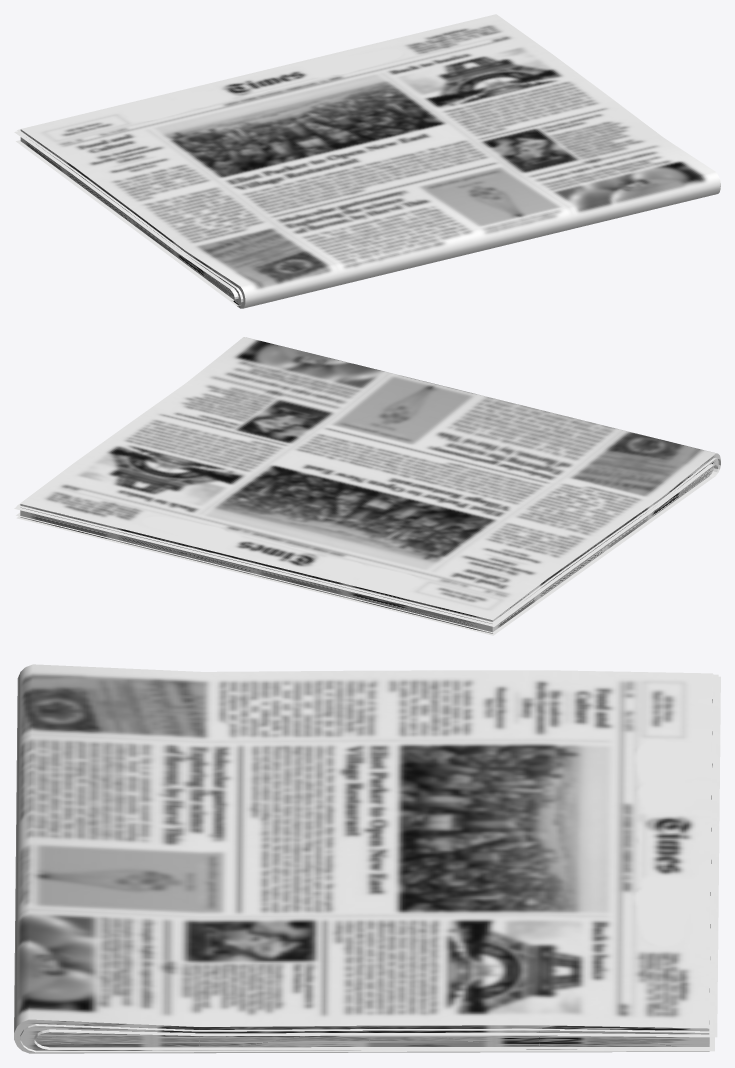
The model's file is Newspaper.FBX.
3 views of the same model, one above another, from view 1: azimuth 30°, elevation 25°; view 2: azimuth 150°, elevation 25°; view 3: azimuth 270°, elevation 25° (orthographic). The views are drawn at different scales.
Parts seen in each view (by area): view 1: Newspaper; view 2: Newspaper; view 3: Newspaper.
Part boxes in pixels (<box>): Newspaper: <box>14,14,720,308</box>; Newspaper: <box>14,337,720,635</box>; Newspaper: <box>14,664,720,1053</box>.
Size of the model in its own units: 35.66 by 1.57 by 29.42.
1 material, 1 textured.
